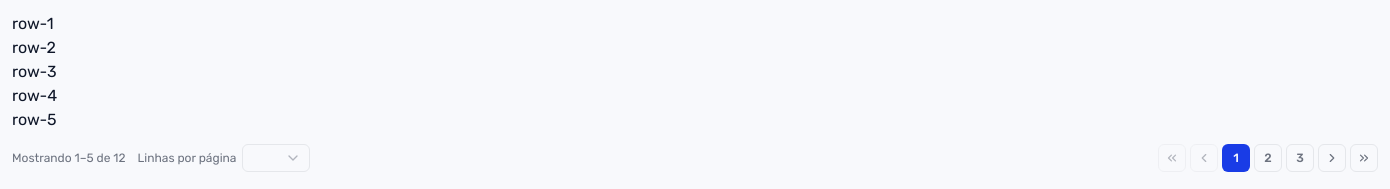
Test case: DataTablePagination › disables the next controls on the last page
This screenshot has width=1390, height=189.
Click the button named "Última página".
click(1364, 158)  # box left=1350, top=144, right=1378, bottom=172
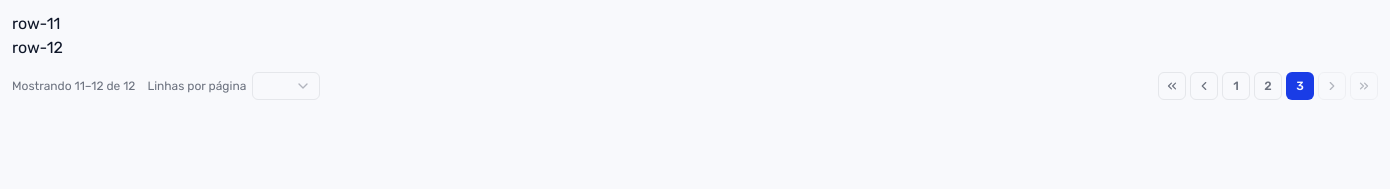
Check: the button named "Próxima página" is disabled, box left=1318, top=72, right=1346, bottom=100
Check: the text "Mostrando 11–12 de 12" is shown, box left=12, top=78, right=135, bottom=94
